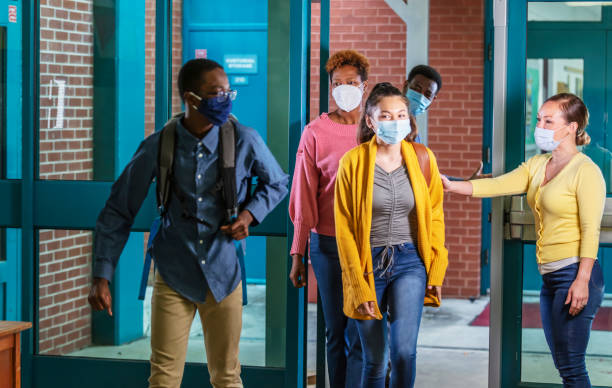with mask: (178, 62, 243, 127), (364, 87, 415, 145), (529, 97, 580, 155), (331, 58, 365, 112), (405, 65, 439, 119)
